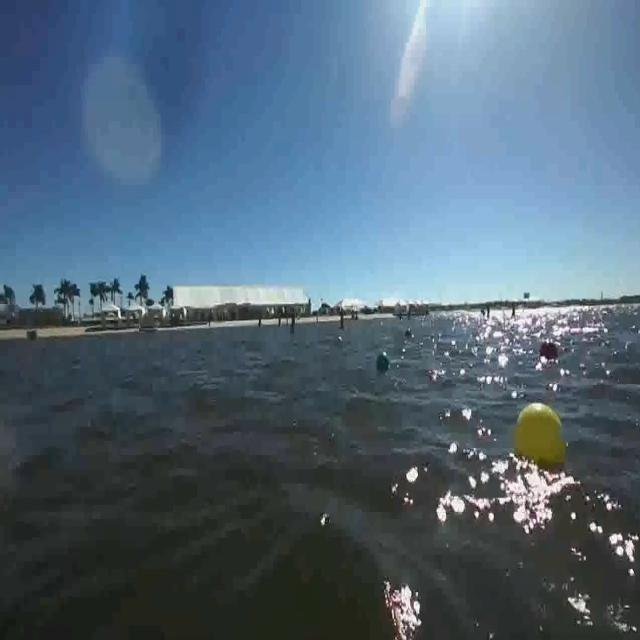yellow-buoy: (511, 398, 567, 474)
